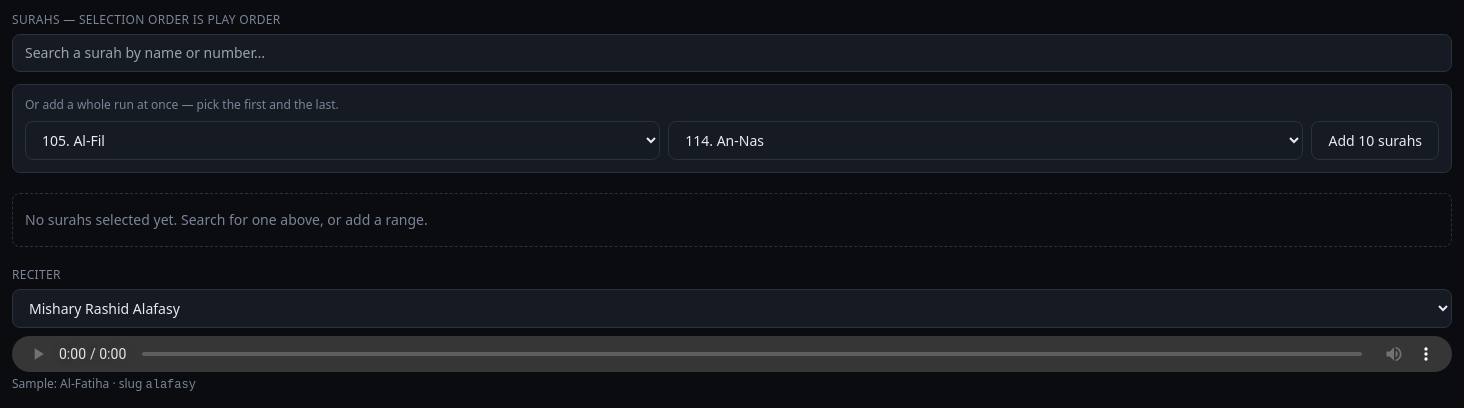
Test: SurahPanel range picker › counts a single-surah range as one
This screenshot has width=1464, height=408.
Select "36. Ya-Sin" in the 1st dropdown: (343, 140) [25,121,660,160]
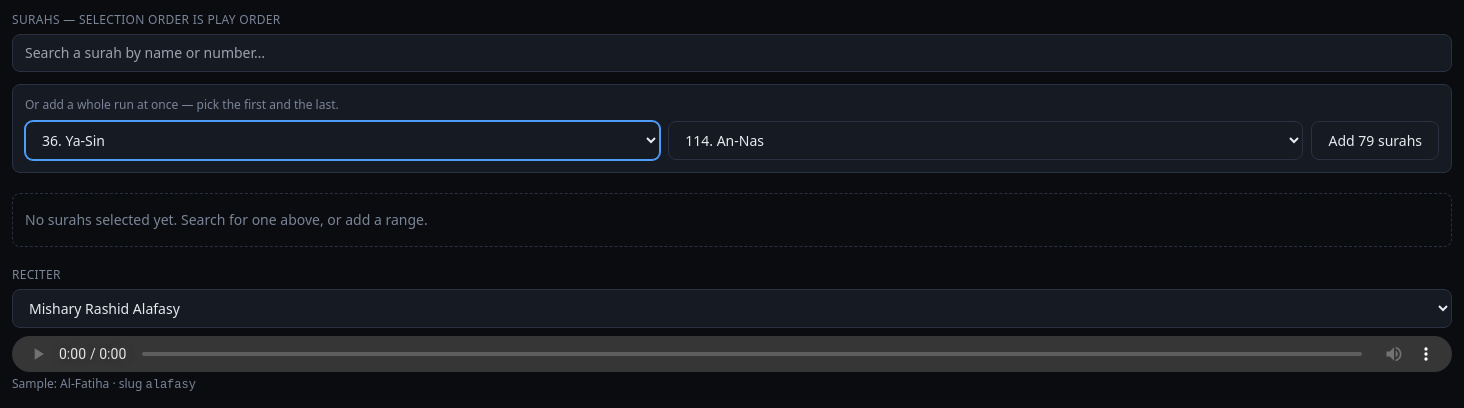
Select "36. Ya-Sin" in the 2nd dropdown: (986, 140) [668,121,1303,160]
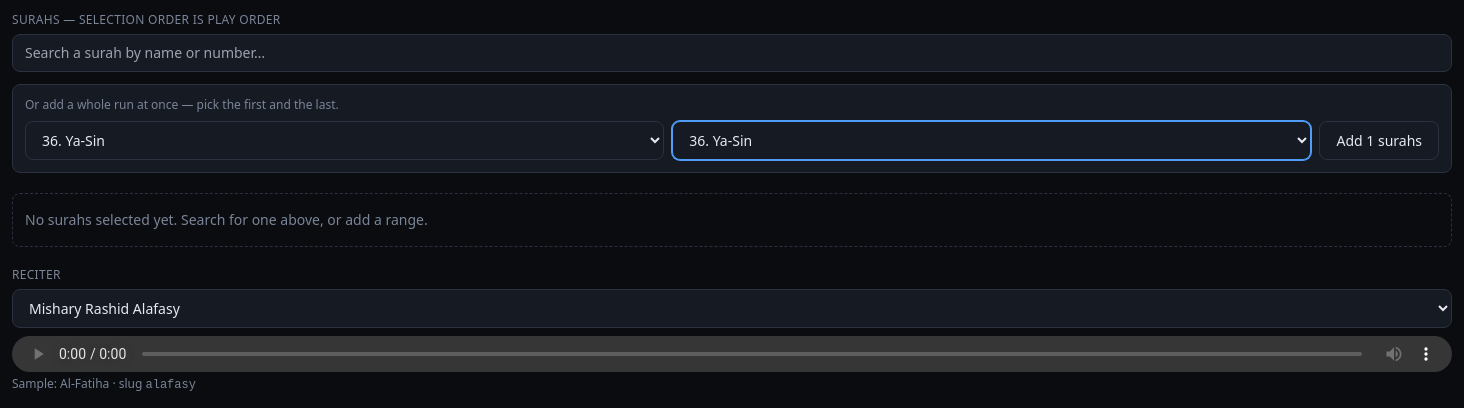
Expected: the button named "add 1 surahs?" is shown, [1320,121,1439,160]
